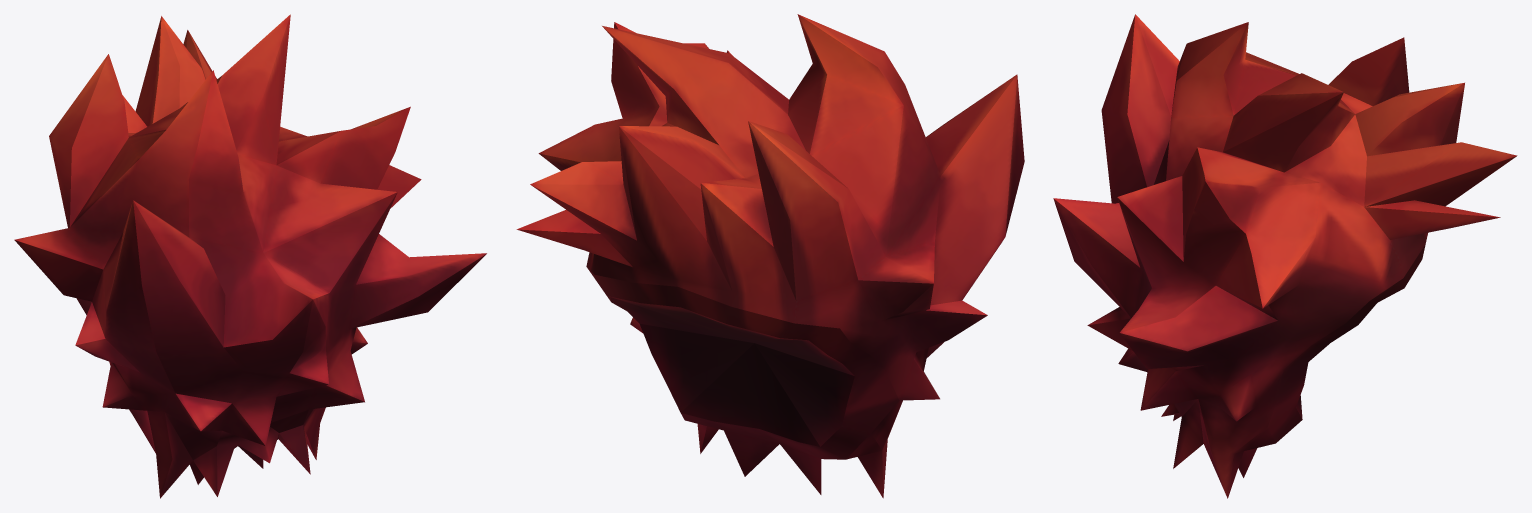
3 renders of one model, left to right at view 1: azimuth 30°, elevation 25°; view 2: azimuth 150°, elevation 25°; view 3: azimuth 270°, elevation 25°, orthographic. The views are drawn at different scales.
Visible parts, largest first — view 1: geometry_0; view 2: geometry_0; view 3: geometry_0.
Part boxes in pixels (left/top/right/bottom): geometry_0: left=14, top=14, right=486, bottom=498; geometry_0: left=516, top=14, right=1024, bottom=498; geometry_0: left=1053, top=14, right=1517, bottom=498.
Size of the model in its own units: 2.27 by 2.38 by 2.32.
Materials: 1 (1 with a texture image).
